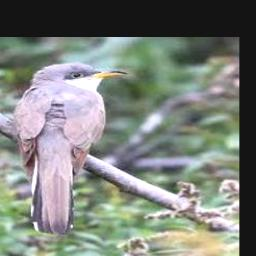Cuckoo: (12, 62, 127, 234)
